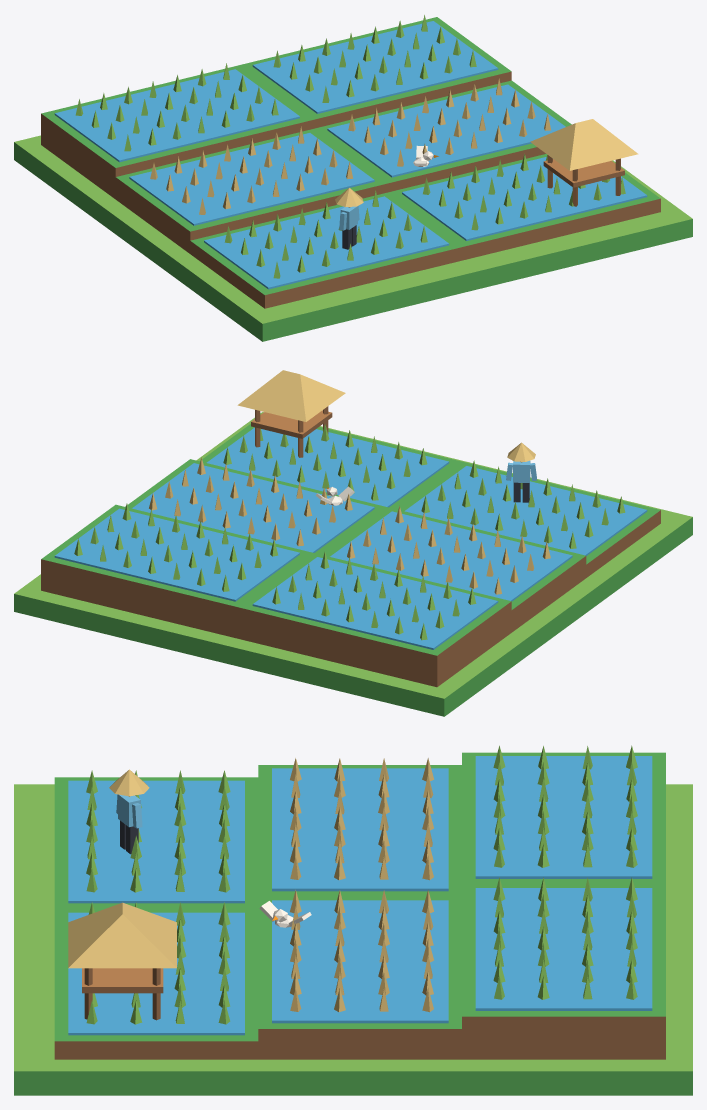
The model's file is nature_rice_field.glb.
3 renders of one model, top to bottom at view 1: azimuth 30°, elevation 25°; view 2: azimuth 150°, elevation 25°; view 3: azimuth 270°, elevation 25°, orthographic. The views are drawn at different scales.
Parts seen in each view (by area): view 1: nature_rice_field; view 2: nature_rice_field; view 3: nature_rice_field.
Boxes of the visible parts, <box> form: nature_rice_field: <box>14,15,692,341</box>; nature_rice_field: <box>14,370,692,716</box>; nature_rice_field: <box>14,745,692,1095</box>.
Size of the model in its own units: 1 by 0.23 by 1.
